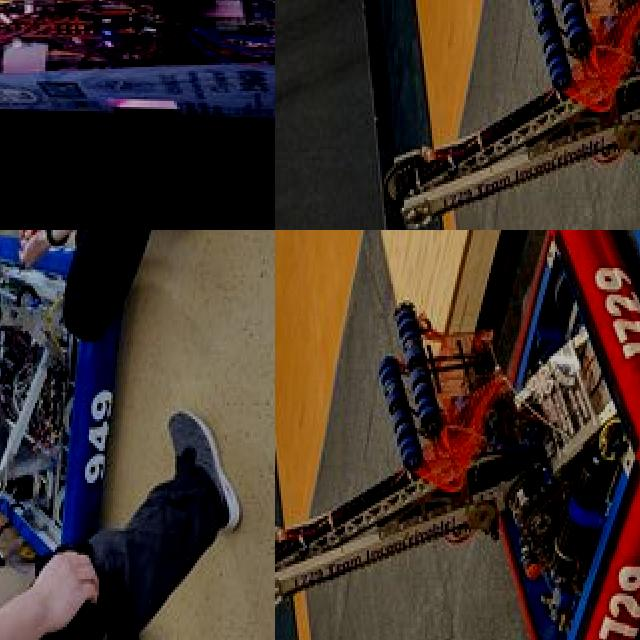FRC-Robots: (275, 230, 640, 640), (368, 0, 640, 230), (0, 230, 146, 617), (0, 0, 275, 188)
